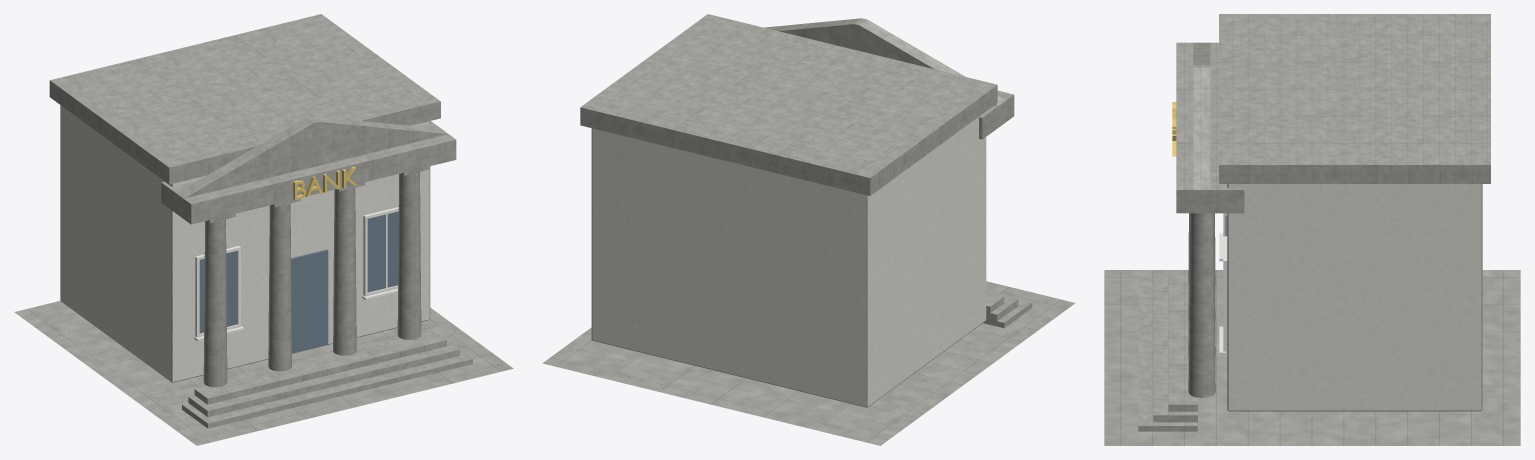
File: bank.gltf
3 views of the same model, side by side, from view 1: azimuth 30°, elevation 25°; view 2: azimuth 150°, elevation 25°; view 3: azimuth 270°, elevation 25° (orthographic). The views are drawn at different scales.
Visible parts, largest first — view 1: bank; view 2: bank; view 3: bank.
Part boxes in pixels (x1=…): bank: x1=14, y1=14, x2=513, y2=445; bank: x1=542, y1=14, x2=1075, y2=445; bank: x1=1104, y1=14, x2=1520, y2=445.
Bounding box in the file's own units: 1.96 × 1.52 × 1.96.
Materials: 6 (3 with a texture image).
